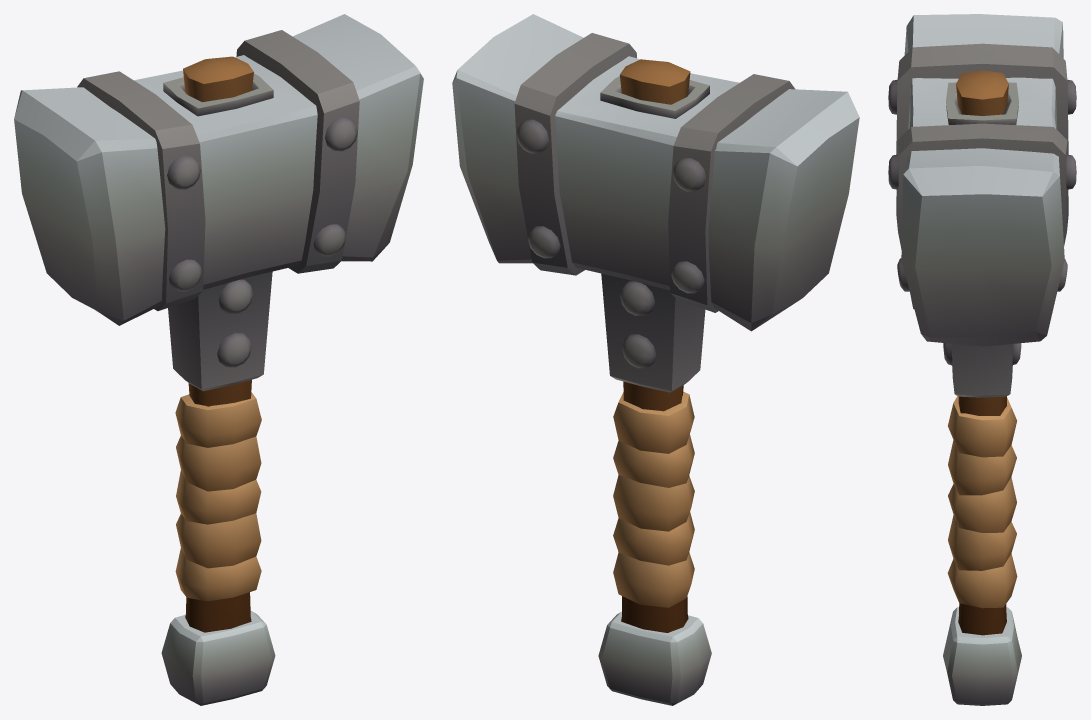
Rendered from Hammer_07.obj.
3 renders of one model, left to right at view 1: azimuth 30°, elevation 25°; view 2: azimuth 150°, elevation 25°; view 3: azimuth 270°, elevation 25°, orthographic. The views are drawn at different scales.
Parts seen in each view (by area): view 1: Hammer_07; view 2: Hammer_07; view 3: Hammer_07.
Part boxes in pixels (x1,y1,x2,y2): Hammer_07: [14, 14, 423, 705]; Hammer_07: [452, 14, 859, 705]; Hammer_07: [888, 14, 1076, 705].
Size of the model in its own units: 0.6369 by 1.08 by 0.301.
